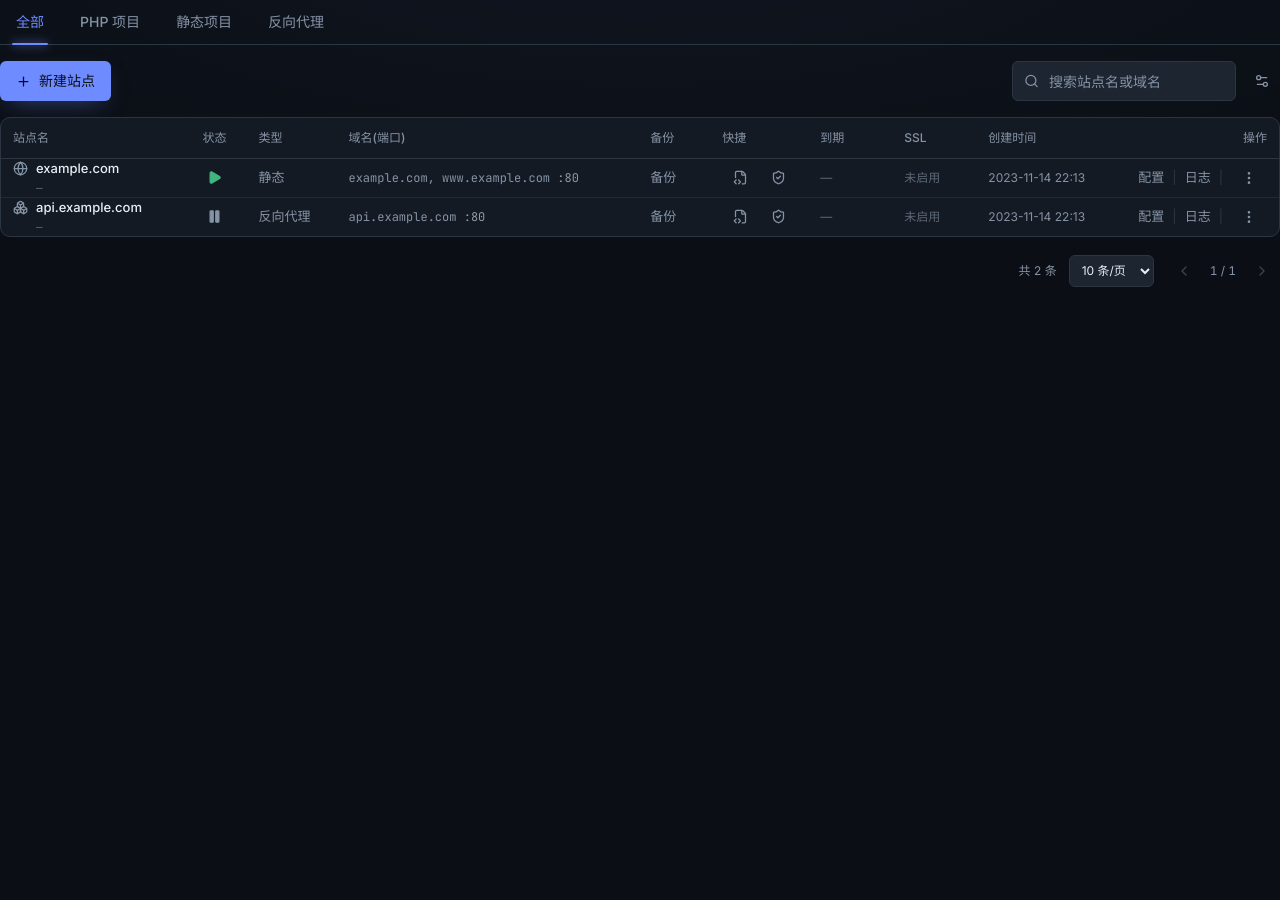
Sites list › opens the detail drawer with tabs
Click the button "example.com" at (66, 168), box [13,158,119,178]
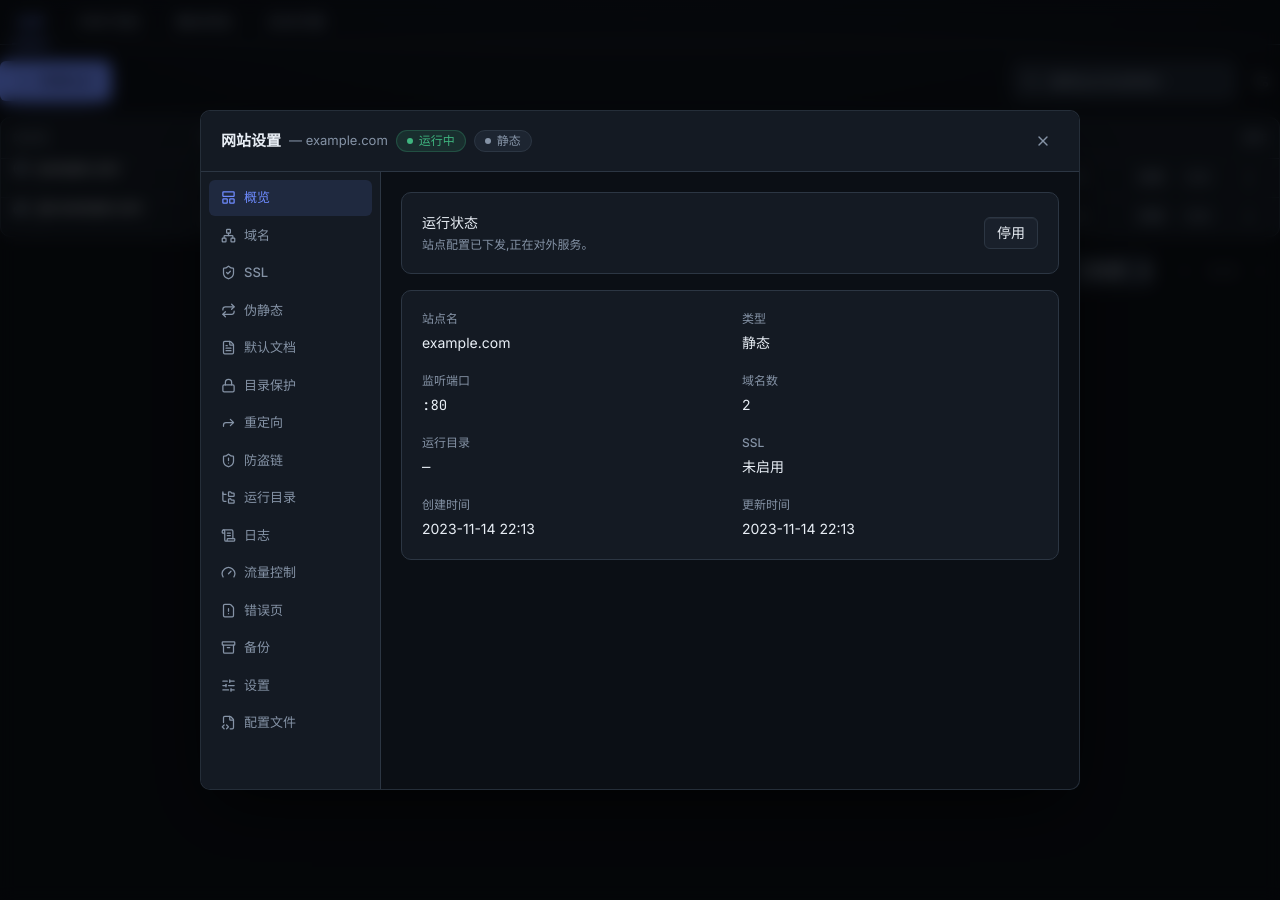
expect the button "概览" is shown: met, box [209,180,372,216]
expect the button "域名" is shown: met, box [209,218,372,253]
expect the button "配置文件" is shown: met, box [209,705,372,740]
